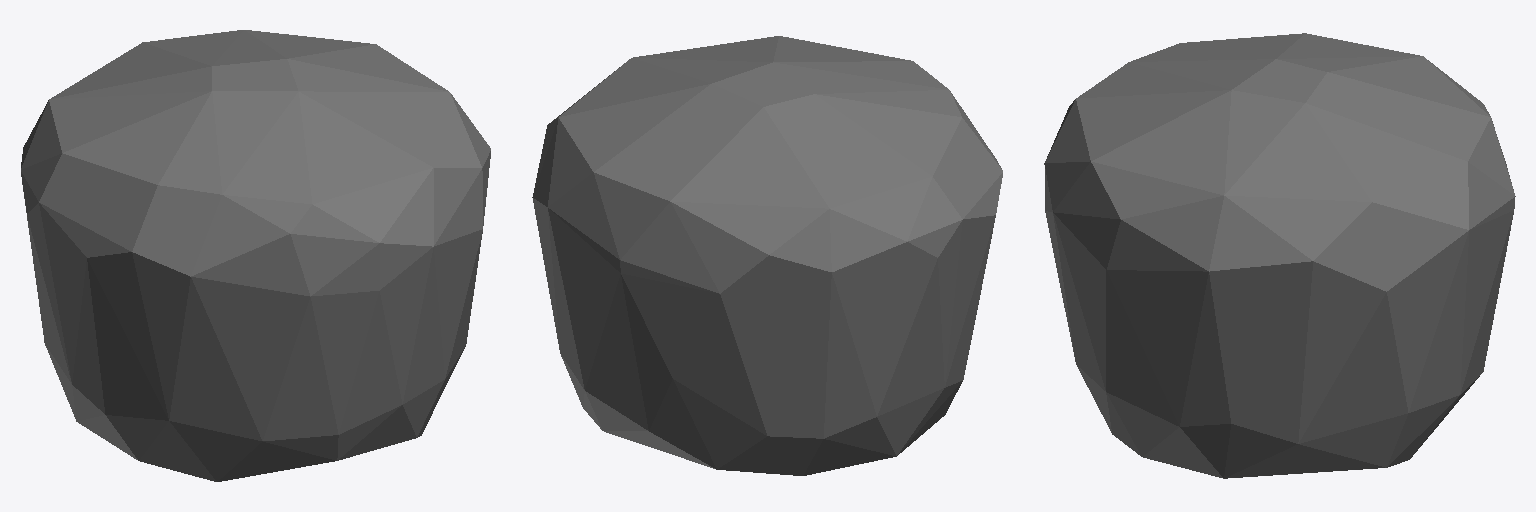
URDF robot description (pot_004):
<?xml version="1.0" ?>
<robot name="pot_004">
  <material name="color">
    <color rgba=".5 .5 .5 1"/>
  </material>

  <link name="base_link">
    <contact>
      <lateral_friction value="1.0"/>
      <rolling_friction value="0.001"/>
      <spinning_friction value="0.001"/>
      <inertia_scaling value="1.0"/>
    </contact>
    <inertial>
      <origin rpy="0 0 0" xyz="4.0742e-05 -0.000690181 -0.00468477"/>
       <mass value="0.1"/>
       <inertia ixx="1" ixy="0" ixz="0" iyy="1" iyz="0" izz="1"/>
    </inertial>

    <visual>
      <origin rpy="0 0 0" xyz="0 0 0"/>
      <geometry>
        <mesh filename="pot_004_vhacd_0_of_1.obj" scale="1 1 1"/>
      </geometry>
      <material name="color"/>
    </visual>

    <collision>
      <origin rpy="0 0 0" xyz="0 0 0"/>
      <geometry>
        <mesh filename="pot_004_vhacd_0_of_1.obj" scale="1 1 1"/>
      </geometry>
    </collision>

  </link>
</robot>

--- Facts derived from the render (not from the file) ---
Views: 3 orthographic renders of the robot side by side, from view 1: azimuth 30°, elevation 25°; view 2: azimuth 150°, elevation 25°; view 3: azimuth 270°, elevation 25°.
Model pot_004 with 1 links and 0 joints (none), rooted at base_link, posed every joint at zero.
Visible links, largest first — view 1: base_link; view 2: base_link; view 3: base_link.
Link boxes in pixels (x1,y1,x2,y2): base_link: [21, 30, 490, 481]; base_link: [532, 36, 1002, 475]; base_link: [1044, 33, 1515, 478].
Bounding box of the posed robot: 0.2201 × 0.2171 × 0.1676 m (x, y, z).
1 mesh visuals loaded from 1 distinct referenced files (1 OBJ).